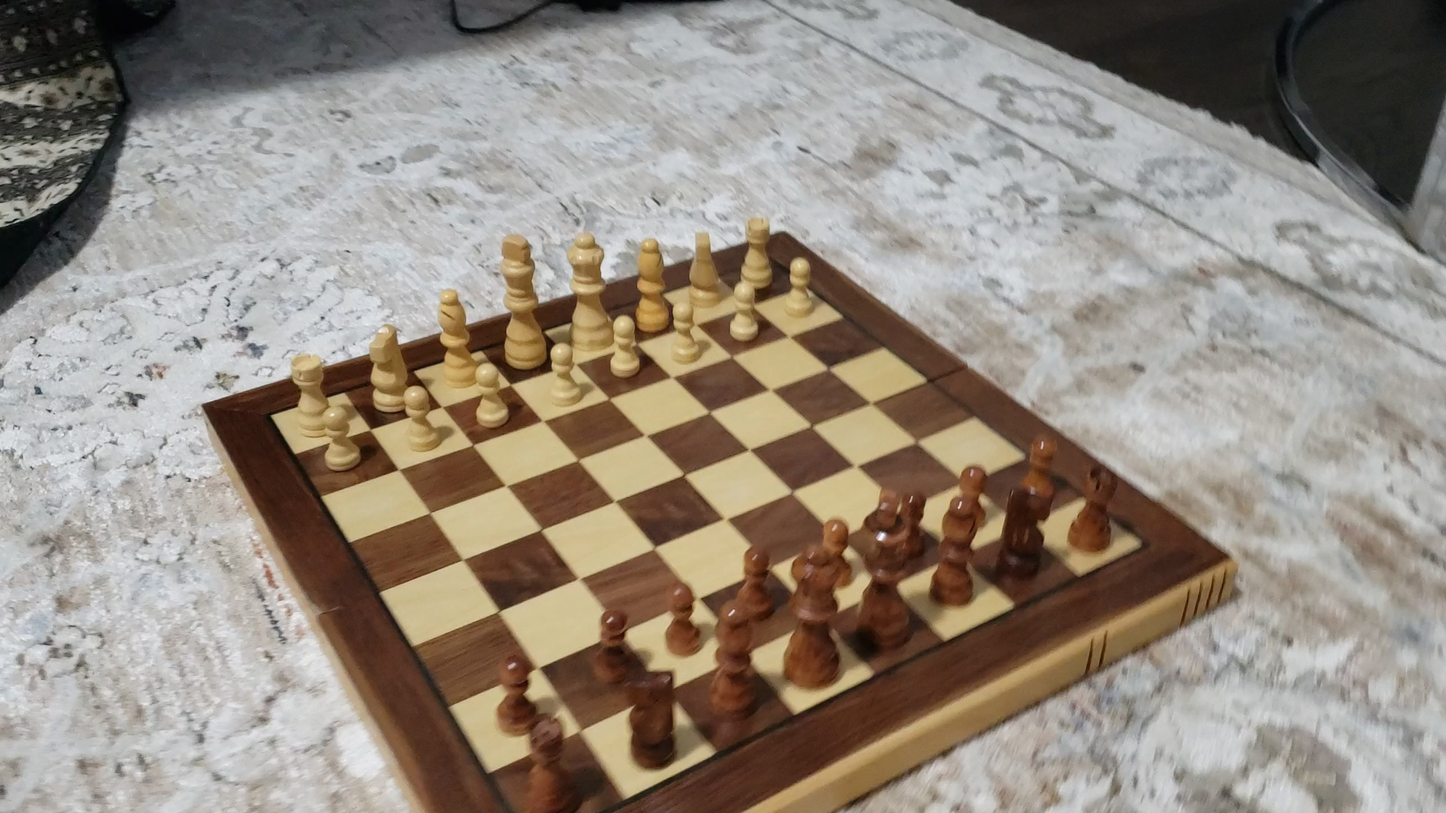black-bishop: (707, 602, 761, 720), (931, 495, 981, 606)
black-king: (850, 493, 928, 658)
black-knight: (623, 668, 679, 770), (995, 483, 1051, 580)
black-pawn: (491, 651, 540, 738), (731, 540, 778, 623), (809, 513, 855, 591), (592, 605, 633, 686), (1020, 432, 1059, 513), (947, 461, 990, 534), (663, 579, 703, 657)
black-queen: (781, 547, 845, 692)
black-rook: (519, 714, 581, 811), (1067, 464, 1118, 554)
white-bishop: (630, 233, 674, 336), (433, 285, 475, 391)
white-king: (495, 230, 549, 373)
white-knight: (366, 321, 409, 415), (685, 226, 723, 312)
white-pawn: (662, 290, 710, 370), (312, 405, 364, 477), (397, 384, 445, 456), (469, 361, 515, 433), (542, 340, 588, 410), (602, 311, 646, 383), (720, 278, 765, 348), (778, 251, 821, 323)
white-queen: (565, 228, 612, 354)
white-rook: (286, 351, 339, 439), (737, 209, 777, 303)
